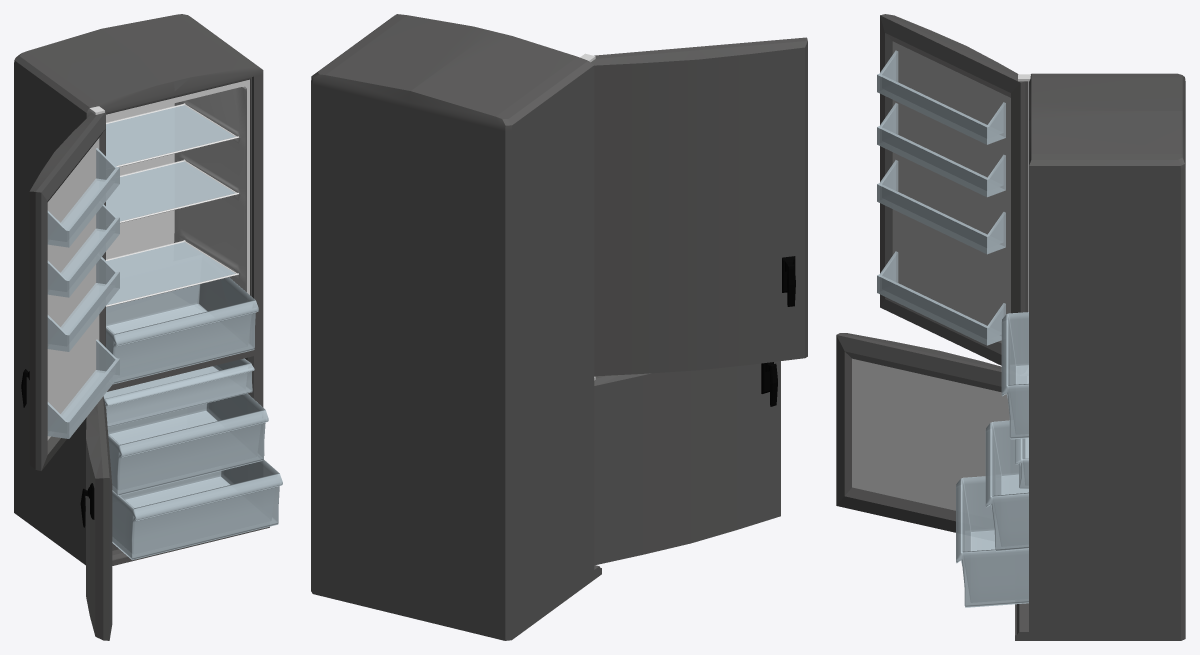
The model's file is refrigerator_open.fbx.
3 views of the same model, side by side, from view 1: azimuth 30°, elevation 25°; view 2: azimuth 150°, elevation 25°; view 3: azimuth 270°, elevation 25° (orthographic). The views are drawn at different scales.
Visible parts, largest first — view 1: polySurface57, polySurface52, polySurface55, polySurface42, polySurface38, polySurface44, polySurface54, polySurface43, polySurface39, polySurface40, polySurface41; view 2: polySurface57, polySurface52, polySurface54; view 3: polySurface57, polySurface52, polySurface54, polySurface38, polySurface44, polySurface42, polySurface43.
Part boxes in pixels (x1,y1,x2,y2): polySurface57: [14, 14, 269, 565]; polySurface52: [21, 111, 119, 470]; polySurface55: [106, 79, 249, 310]; polySurface42: [106, 277, 258, 384]; polySurface38: [112, 455, 282, 560]; polySurface44: [107, 366, 268, 495]; polySurface54: [80, 396, 112, 640]; polySurface43: [103, 358, 254, 427]; polySurface39: [106, 103, 238, 166]; polySurface40: [106, 159, 238, 223]; polySurface41: [106, 240, 238, 306]; polySurface57: [311, 14, 601, 640]; polySurface52: [591, 37, 807, 376]; polySurface54: [594, 361, 780, 565]; polySurface57: [1015, 73, 1185, 640]; polySurface52: [877, 14, 1028, 365]; polySurface54: [836, 333, 1009, 532]; polySurface38: [956, 474, 1028, 607]; polySurface44: [985, 420, 1028, 551]; polySurface42: [1001, 312, 1028, 439]; polySurface43: [1015, 438, 1028, 488].
Bounding box in the file's own units: 17.37 × 25.74 × 16.81.
